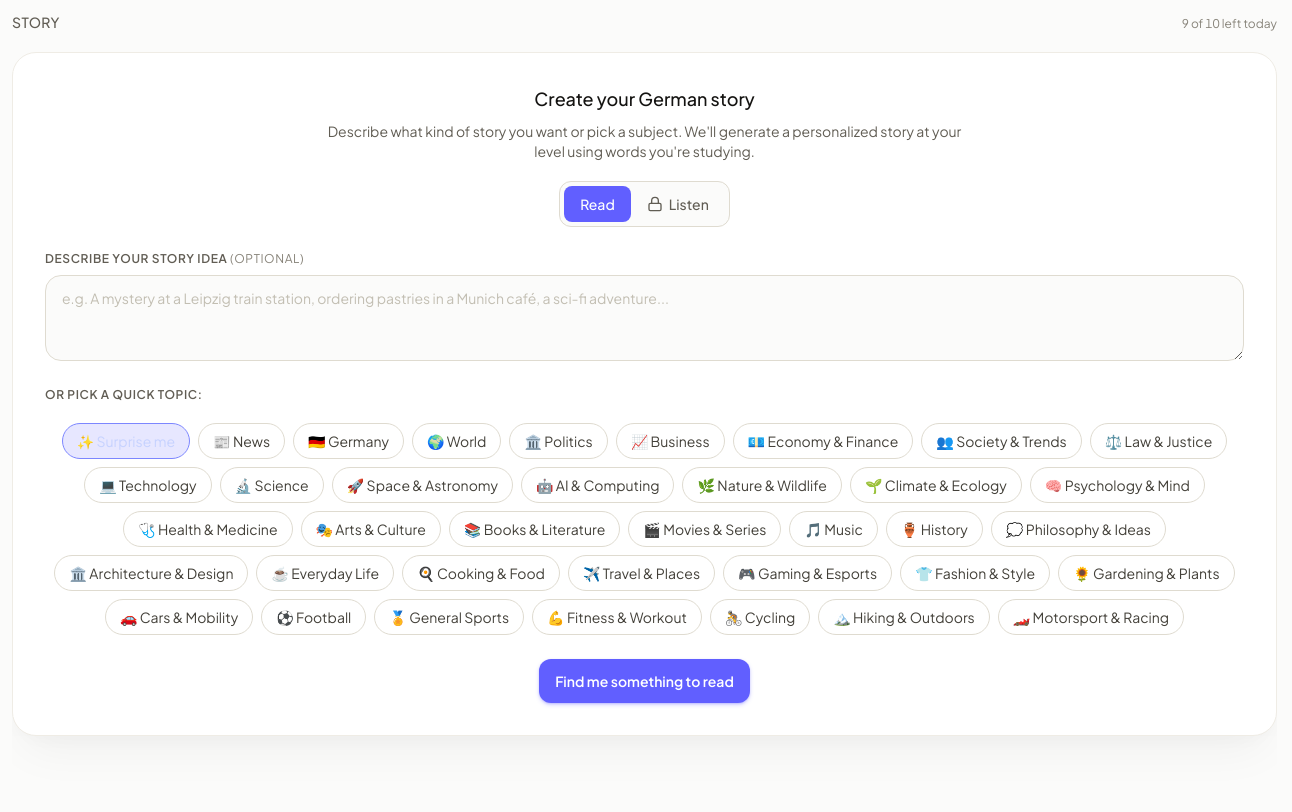
StoryPage › podcast unlock › reads as a goal, not a wall, on the last word
The image size is (1292, 812).
Click the radio button labelled "Listen" at (678, 204), box [631,186,725,222]
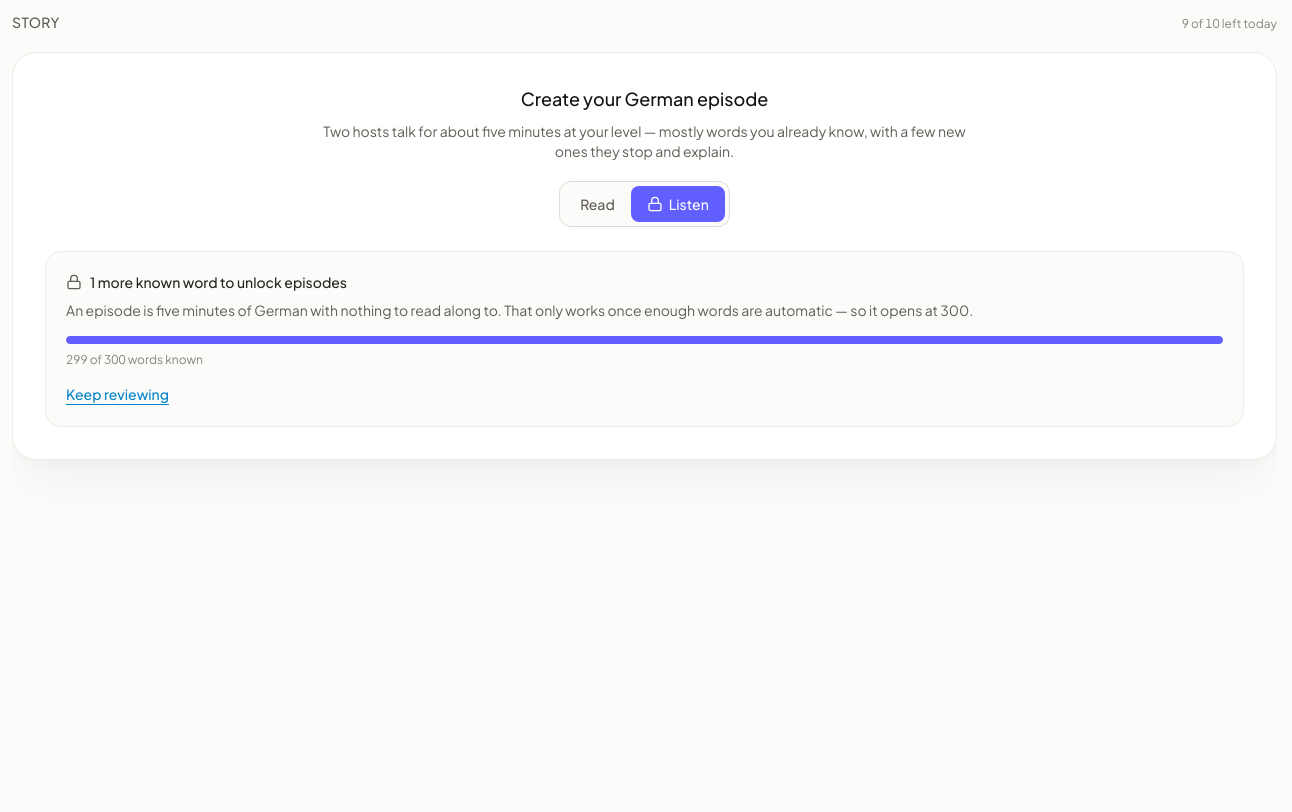
Now the text "1 more known word to unlock episodes" is shown, box [90,272,347,292]
